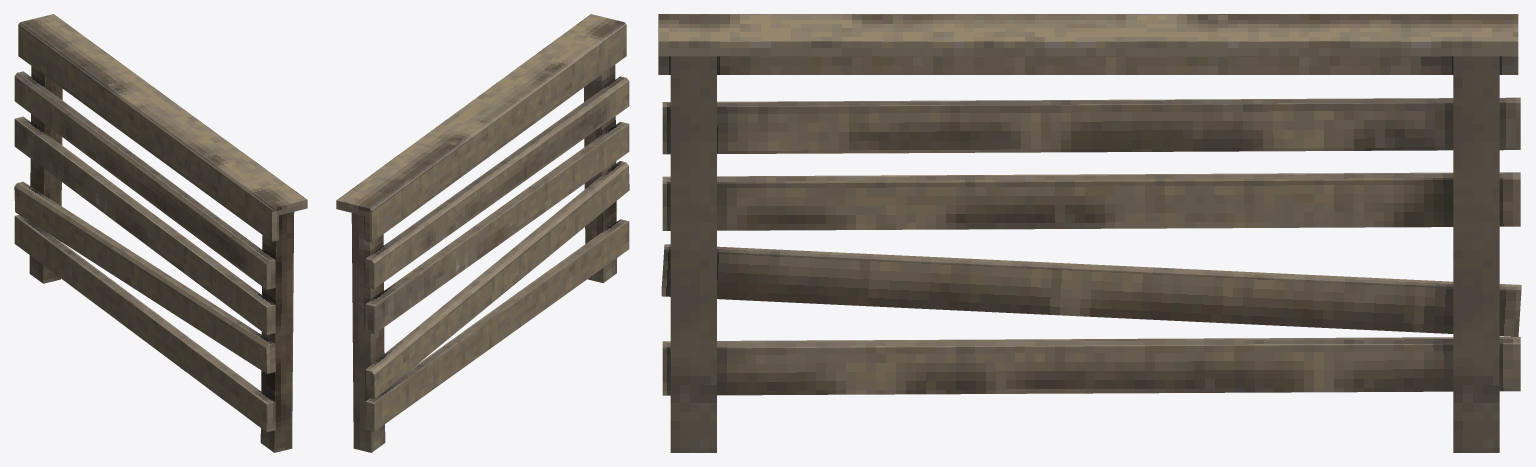
Rendered from Fence_05.glb.
3 renders of one model, left to right at view 1: azimuth 30°, elevation 25°; view 2: azimuth 150°, elevation 25°; view 3: azimuth 270°, elevation 25°, orthographic. The views are drawn at different scales.
Parts seen in each view (by area): view 1: Fence_05; view 2: Fence_05; view 3: Fence_05.
Boxes of the visible parts, <box> form: Fence_05: <box>14,14,307,452</box>; Fence_05: <box>336,14,629,452</box>; Fence_05: <box>658,14,1521,452</box>.
Size of the model in its own units: 0.4533 by 2.72 by 5.06.
1 material, 1 textured.
